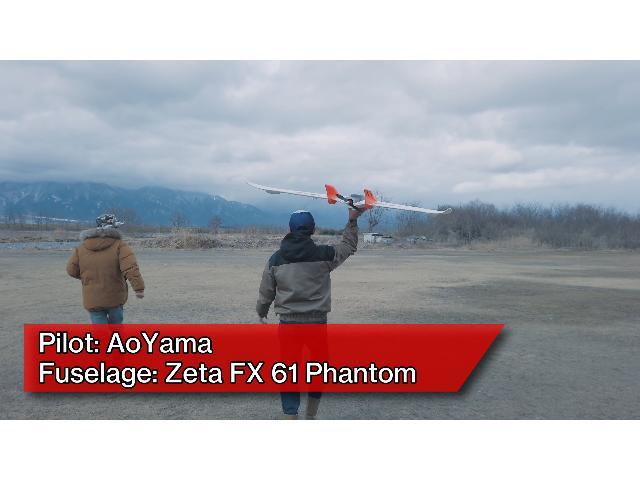Anti-Drone: (242, 181, 460, 215)
